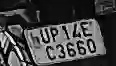0: (86, 38, 97, 54)
1: (61, 27, 71, 41)
3: (54, 43, 67, 60)
4: (71, 23, 82, 40)
6: (74, 39, 87, 58), (64, 41, 76, 58)
C: (44, 45, 57, 61)
E: (78, 21, 96, 37)
P: (49, 25, 59, 42)
U: (39, 28, 51, 44)
